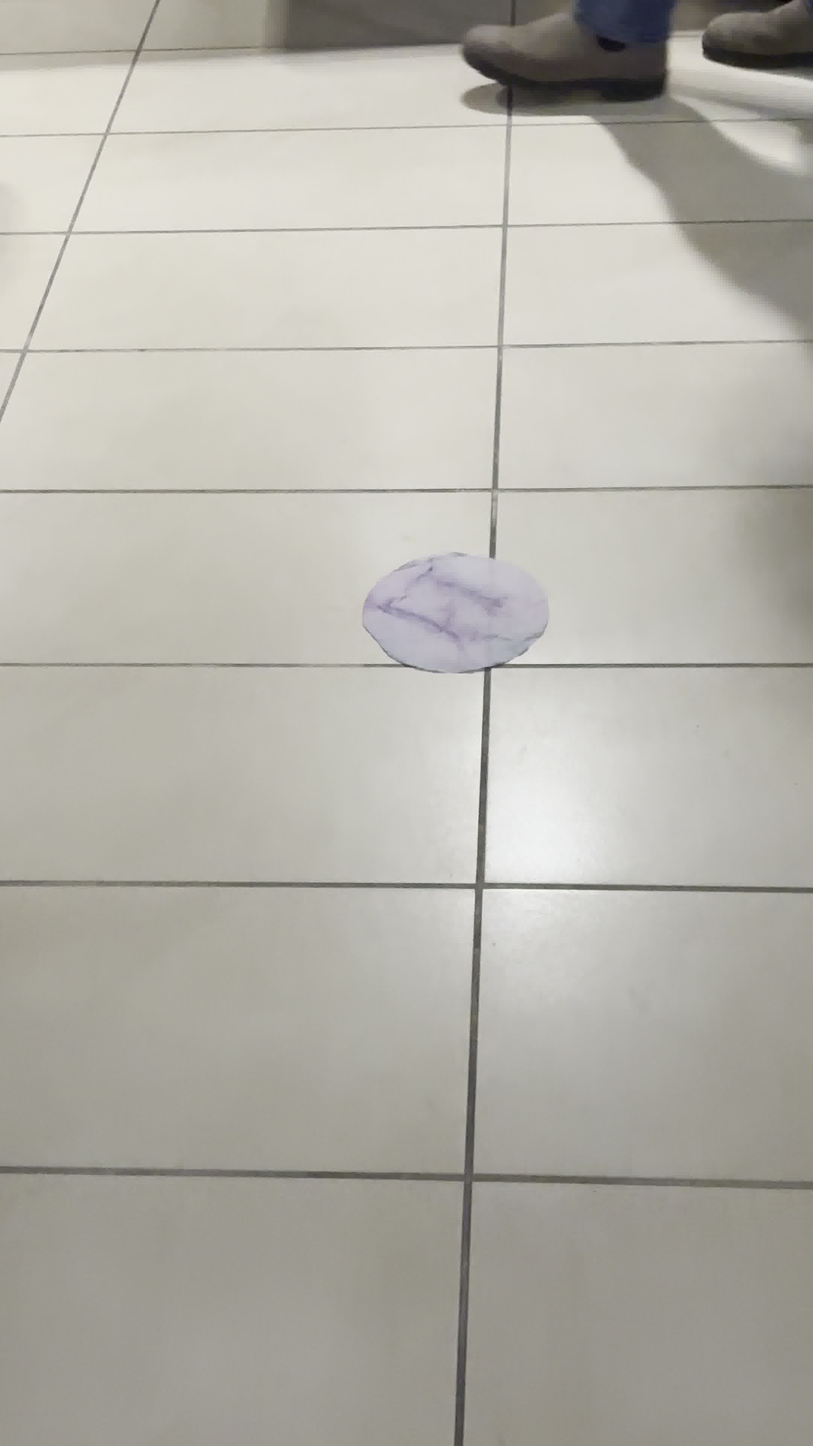Target: (357, 551, 548, 672)
